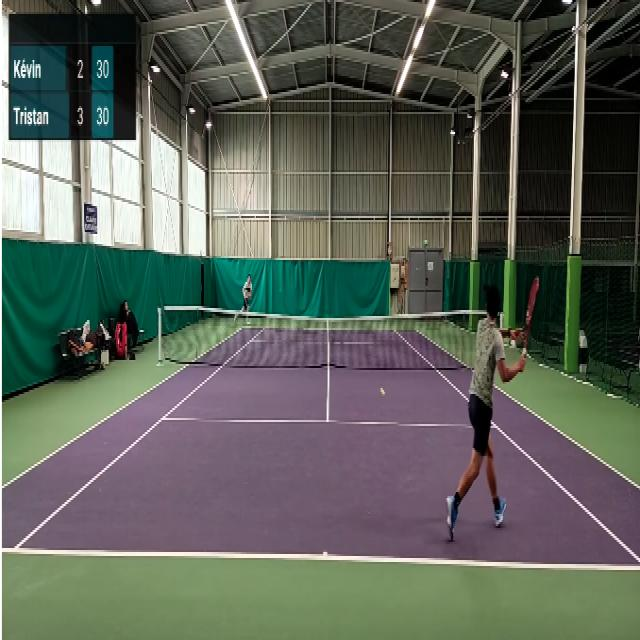ball: (379, 385, 386, 398)
